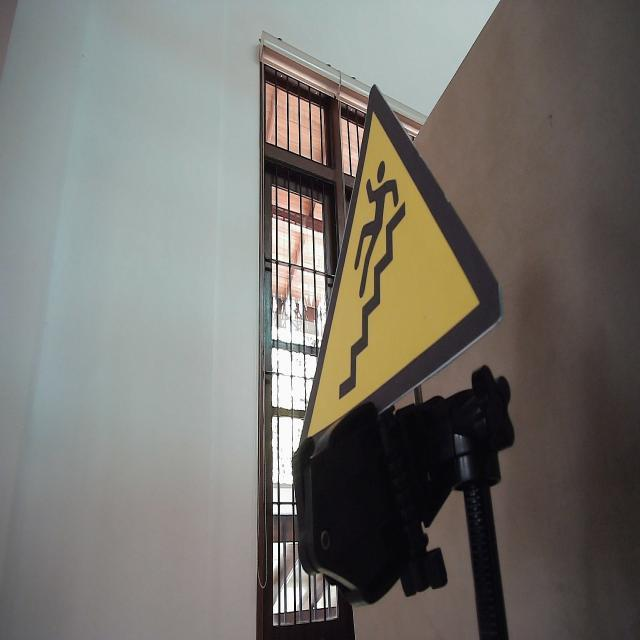stairs: (270, 27, 495, 582)
